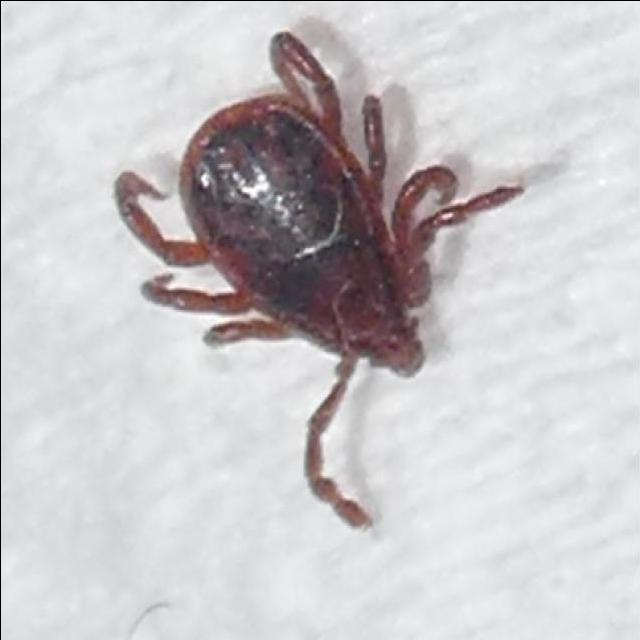Rhipicephalus Sanguineus-M: (115, 28, 526, 531)
